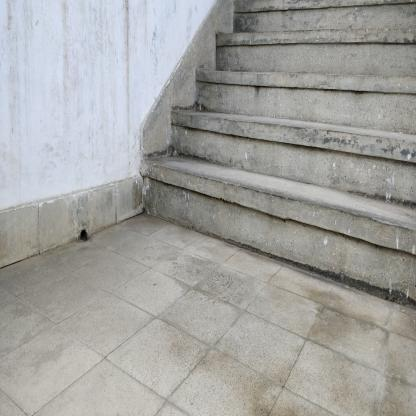stairs: (204, 109, 391, 307)
